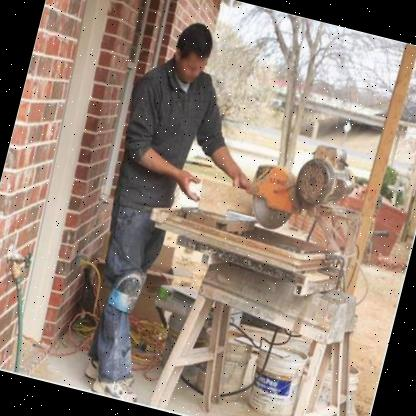bota: (82, 358, 140, 392), (88, 373, 146, 405)
